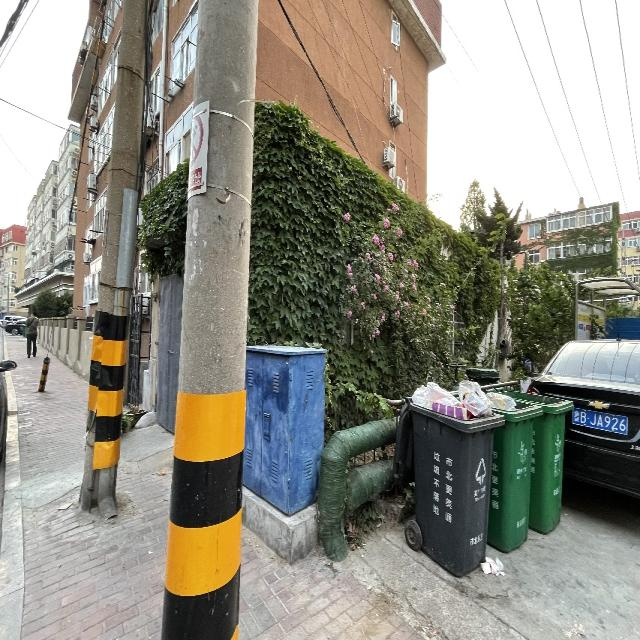garbage: (479, 555, 505, 576)
garbage_bin: (505, 390, 573, 534)
overflow: (390, 381, 503, 578), (485, 389, 542, 555)
